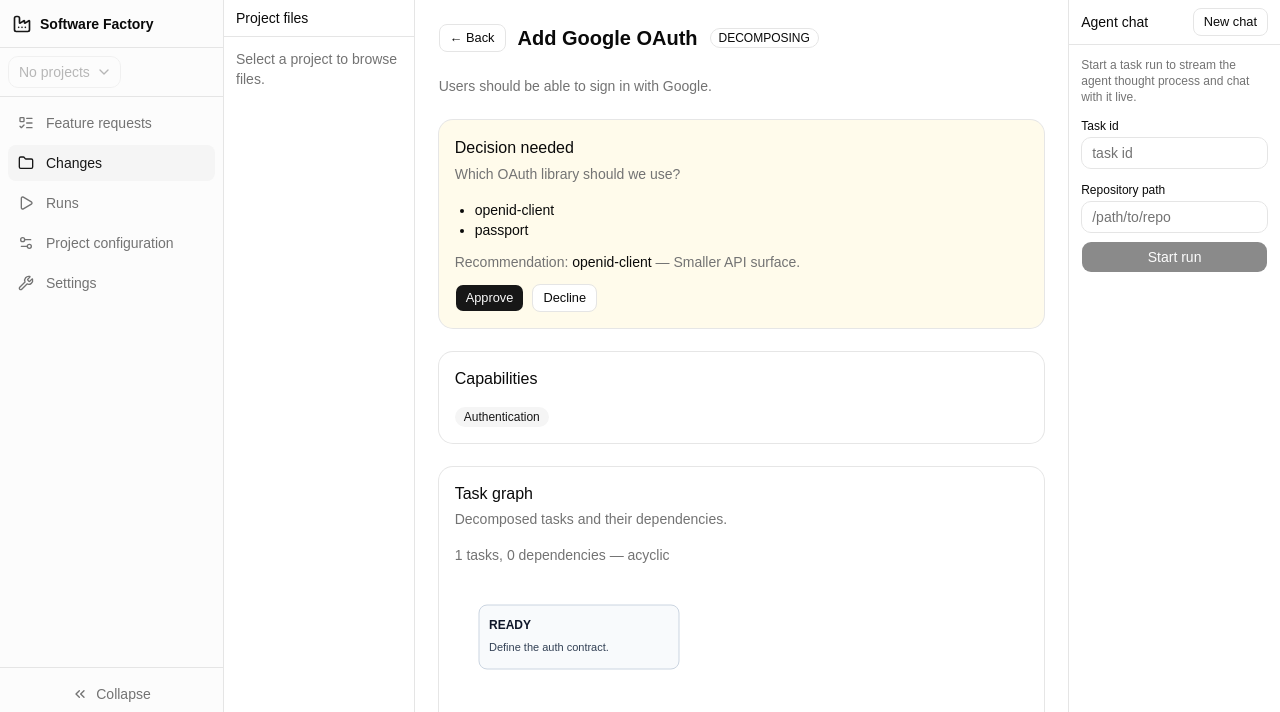
Test: dashboard routing › renders a pending decision on a deep-linked change detail and resolves it
Expected: the text "Decision needed" is shown, 455,139 -> 574,156
Click the button "Approve": (490,298) 455,284 -> 524,312
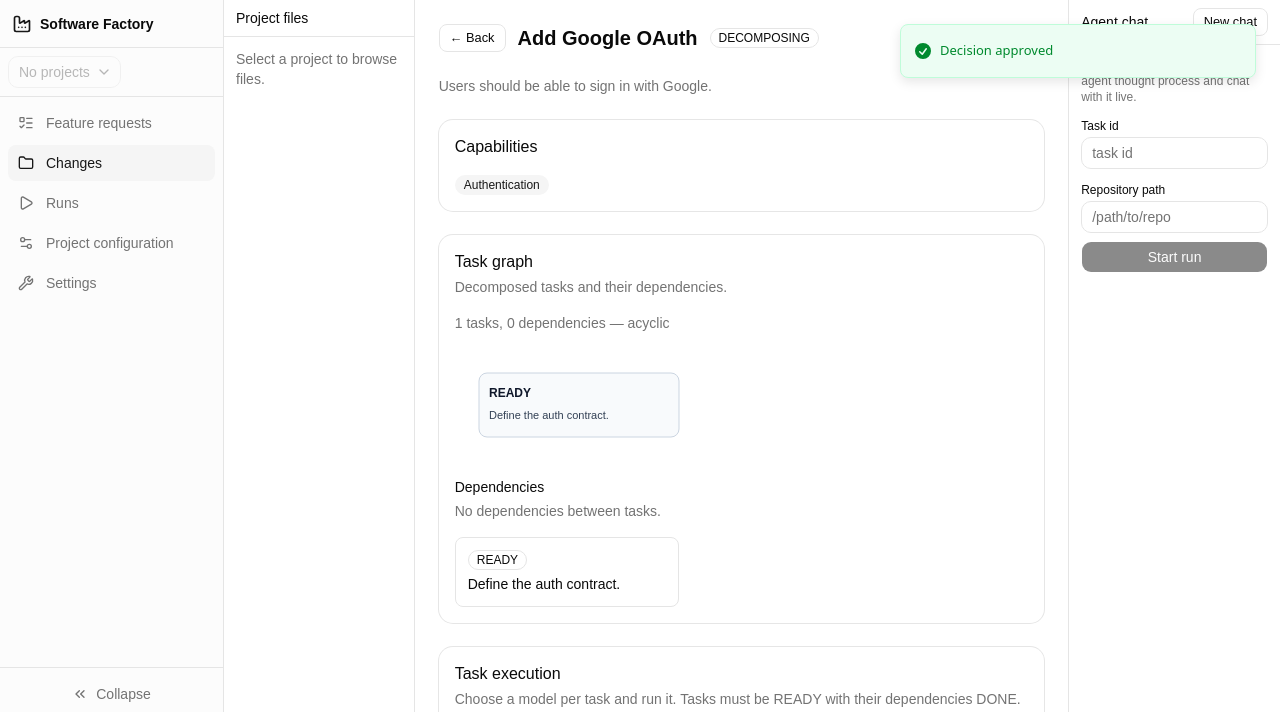
Now the text "Decision needed" is gone
